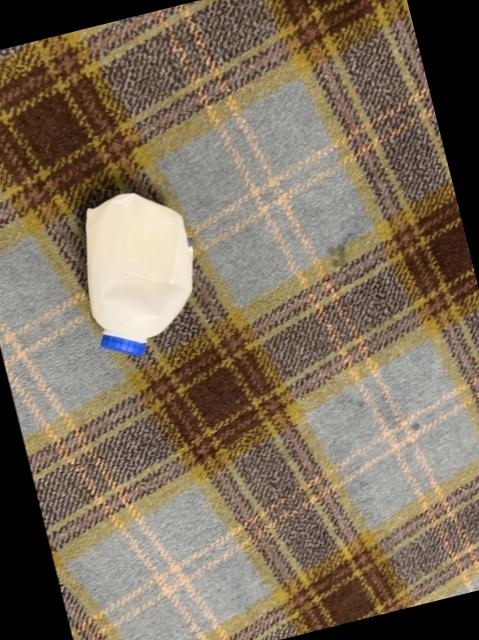plastic: (86, 192, 193, 354)
